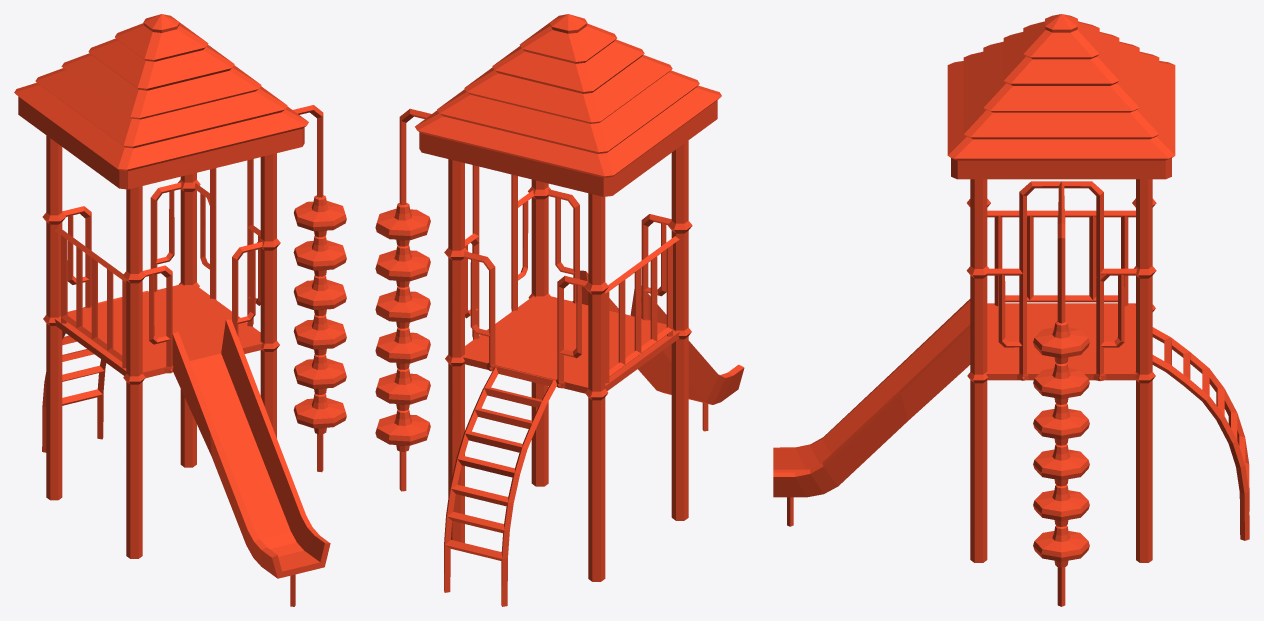
Rendered from SM_Slide_Plastic_City.fbx.
The picture shows the model from 3 angles, left to right: view 1: azimuth 30°, elevation 25°; view 2: azimuth 150°, elevation 25°; view 3: azimuth 270°, elevation 25°; orthographic projection. The views are drawn at different scales.
Visible parts, largest first — view 1: SM_Slide_Plastic_City; view 2: SM_Slide_Plastic_City; view 3: SM_Slide_Plastic_City.
Boxes of the visible parts, box(x1,y1,x2,y2) form: SM_Slide_Plastic_City: box(14, 14, 346, 606); SM_Slide_Plastic_City: box(375, 14, 744, 606); SM_Slide_Plastic_City: box(773, 14, 1249, 606).
Size of the model in its own units: 2.89 by 4.92 by 4.15.
